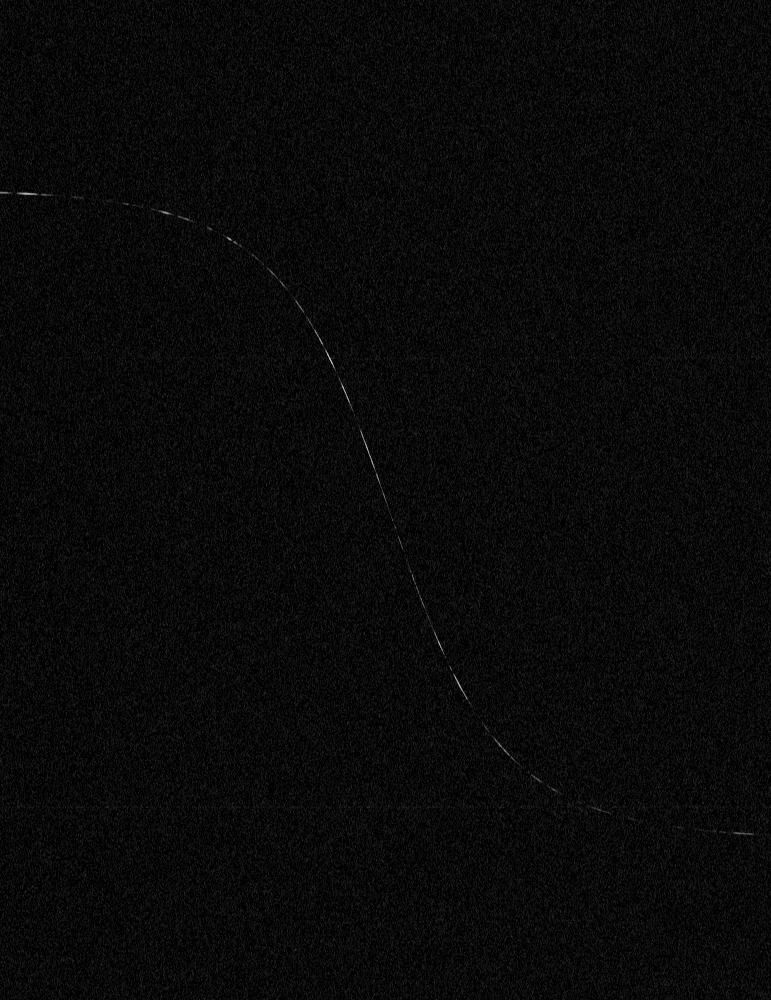signal: (0, 0, 770, 999)
